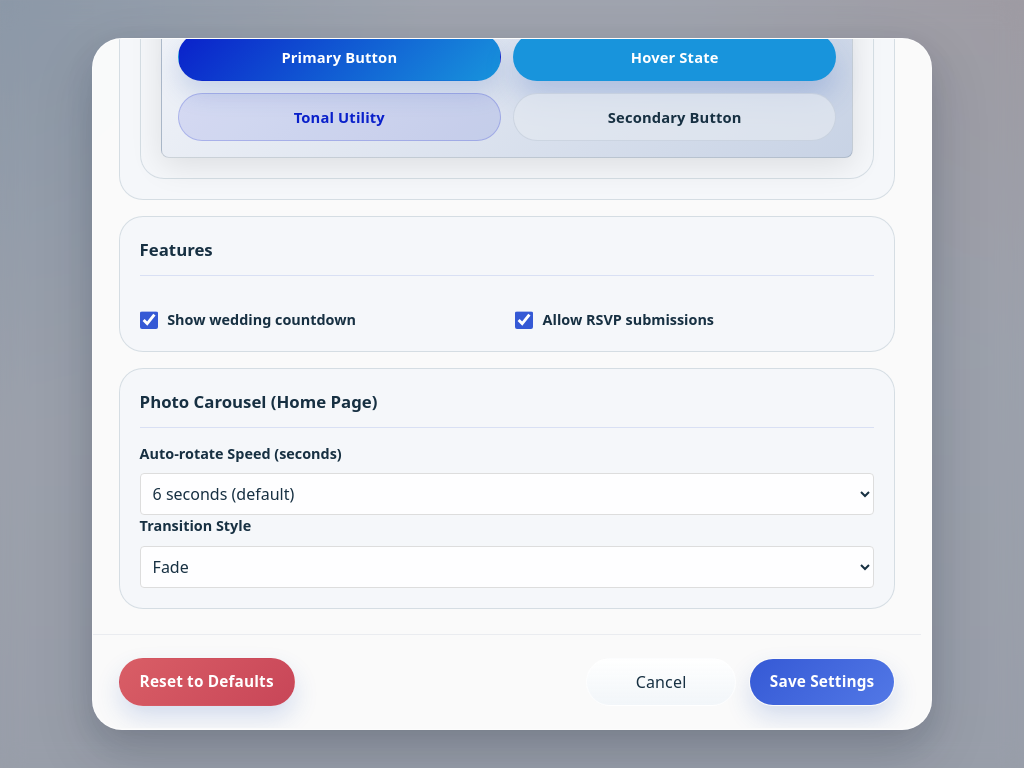
it: SettingsModal › resets to default values when Reset to Defaults is clicked
(page scrolled)
Click the button "Reset to Defaults": (207, 682) [119,658,295,706]
(page scrolled)
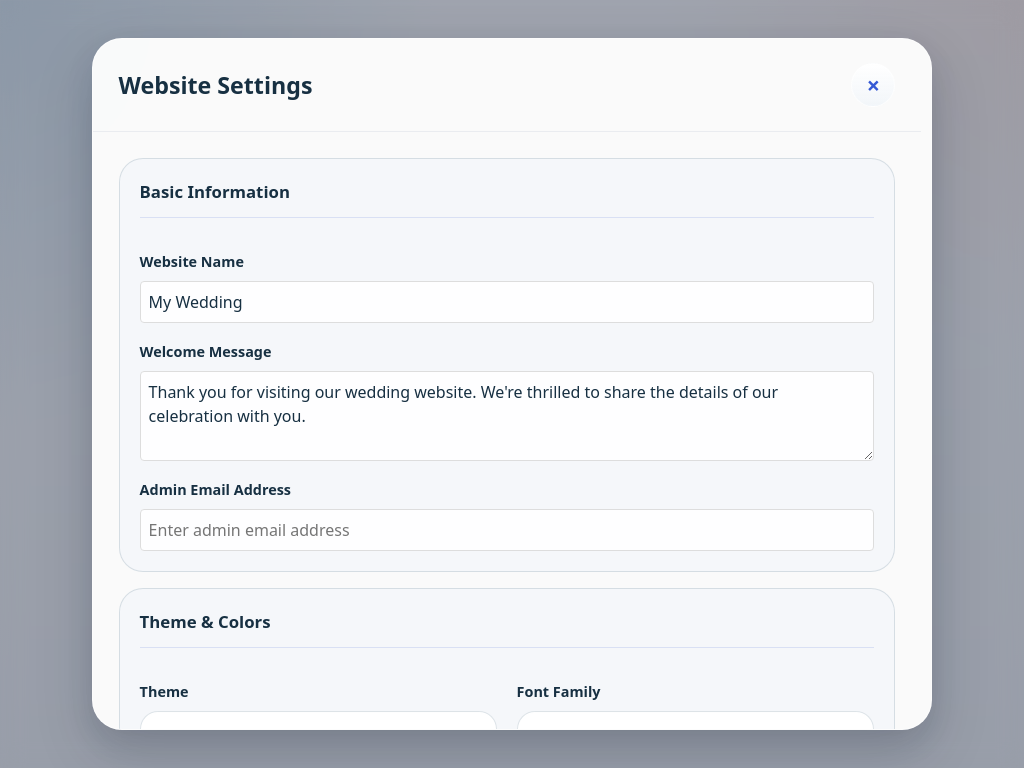
Result: the field labelled "Website Name" holds "My Wedding" at [140,281,874,323]
